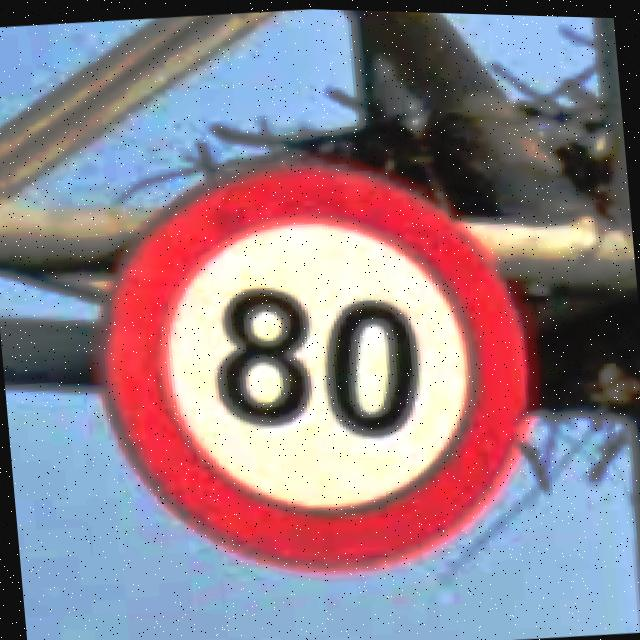max80: (75, 126, 552, 592)
